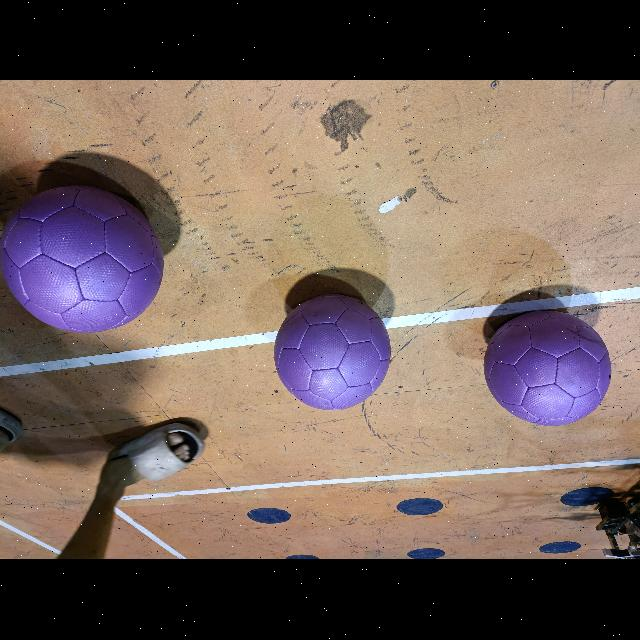P: (0, 187, 164, 333), (484, 312, 612, 426), (275, 296, 391, 410)
